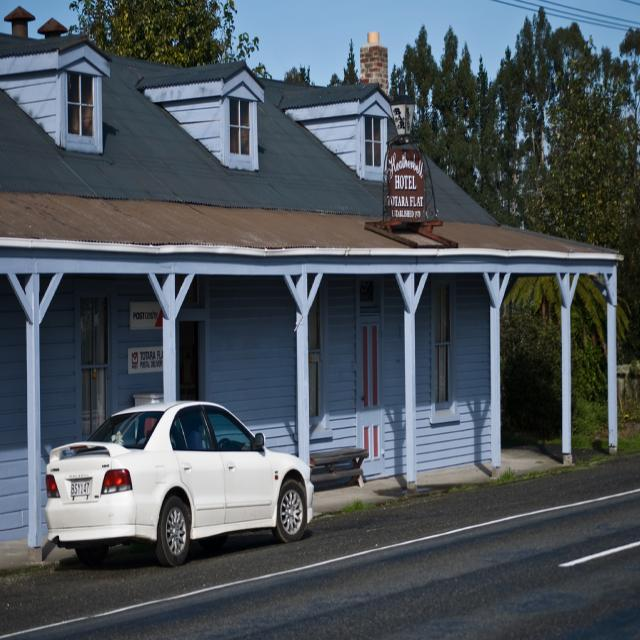car: (38, 398, 323, 574)
